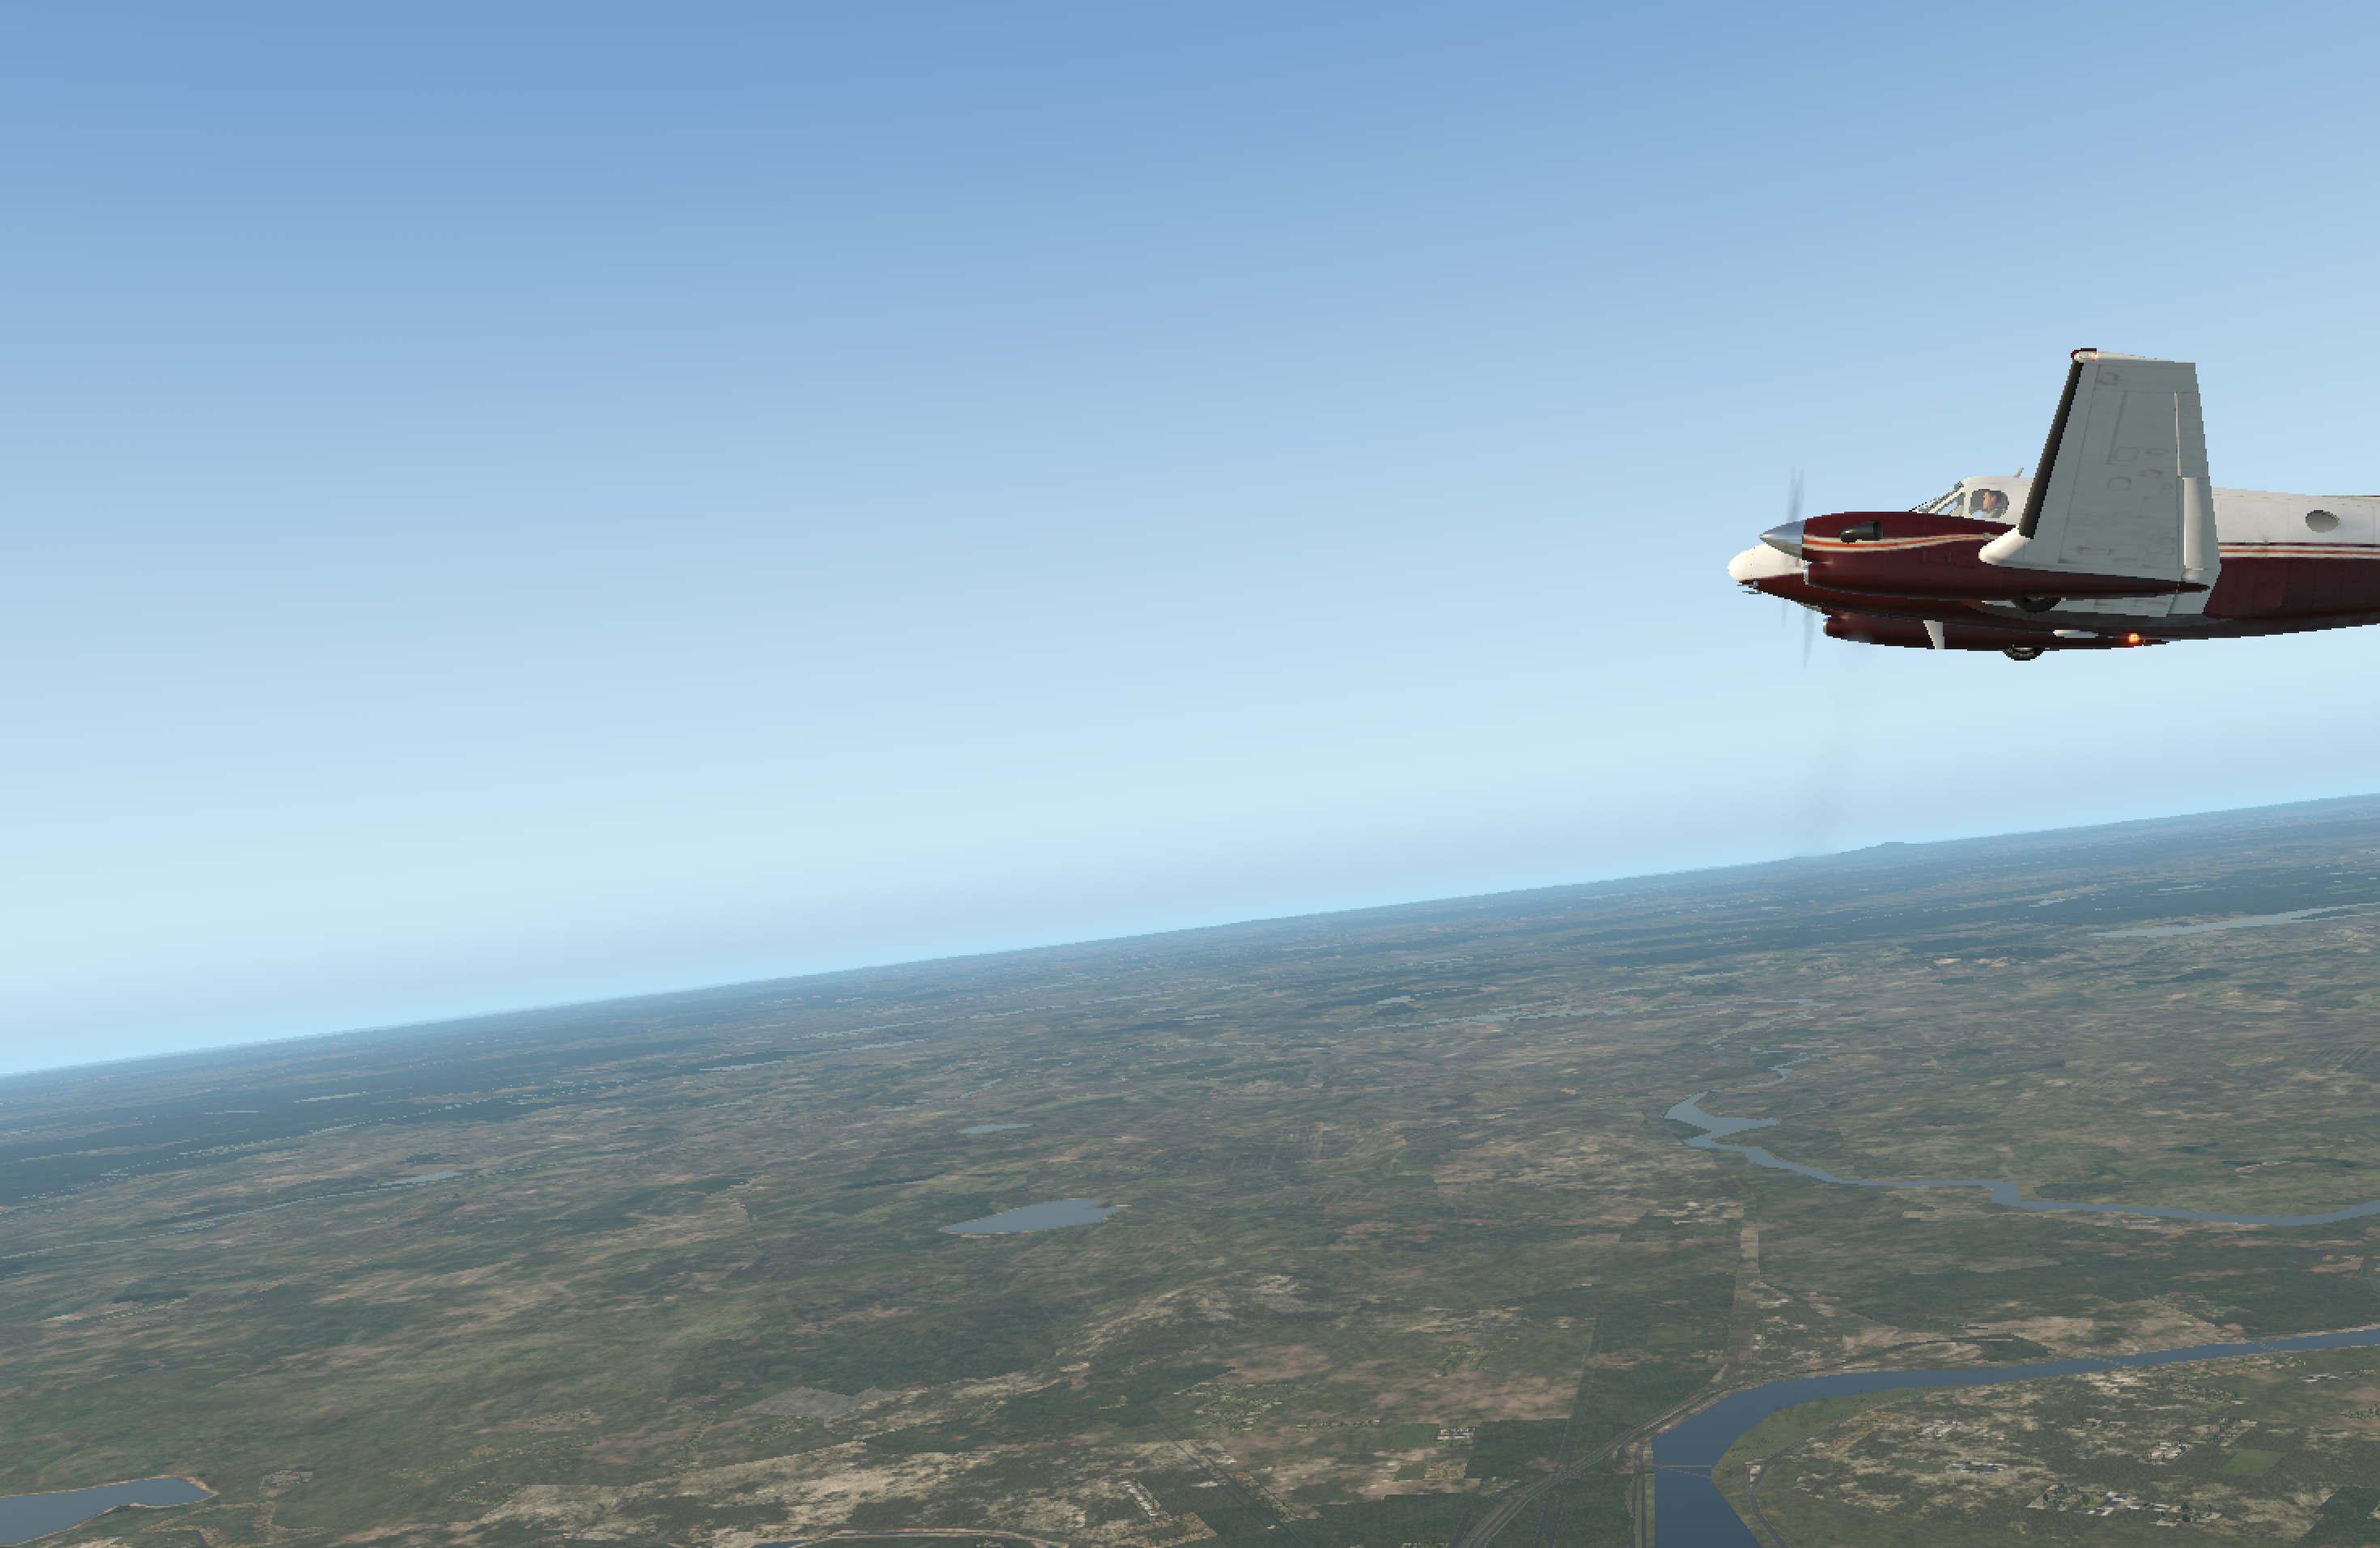aircraft: (1402, 383, 2380, 851)
